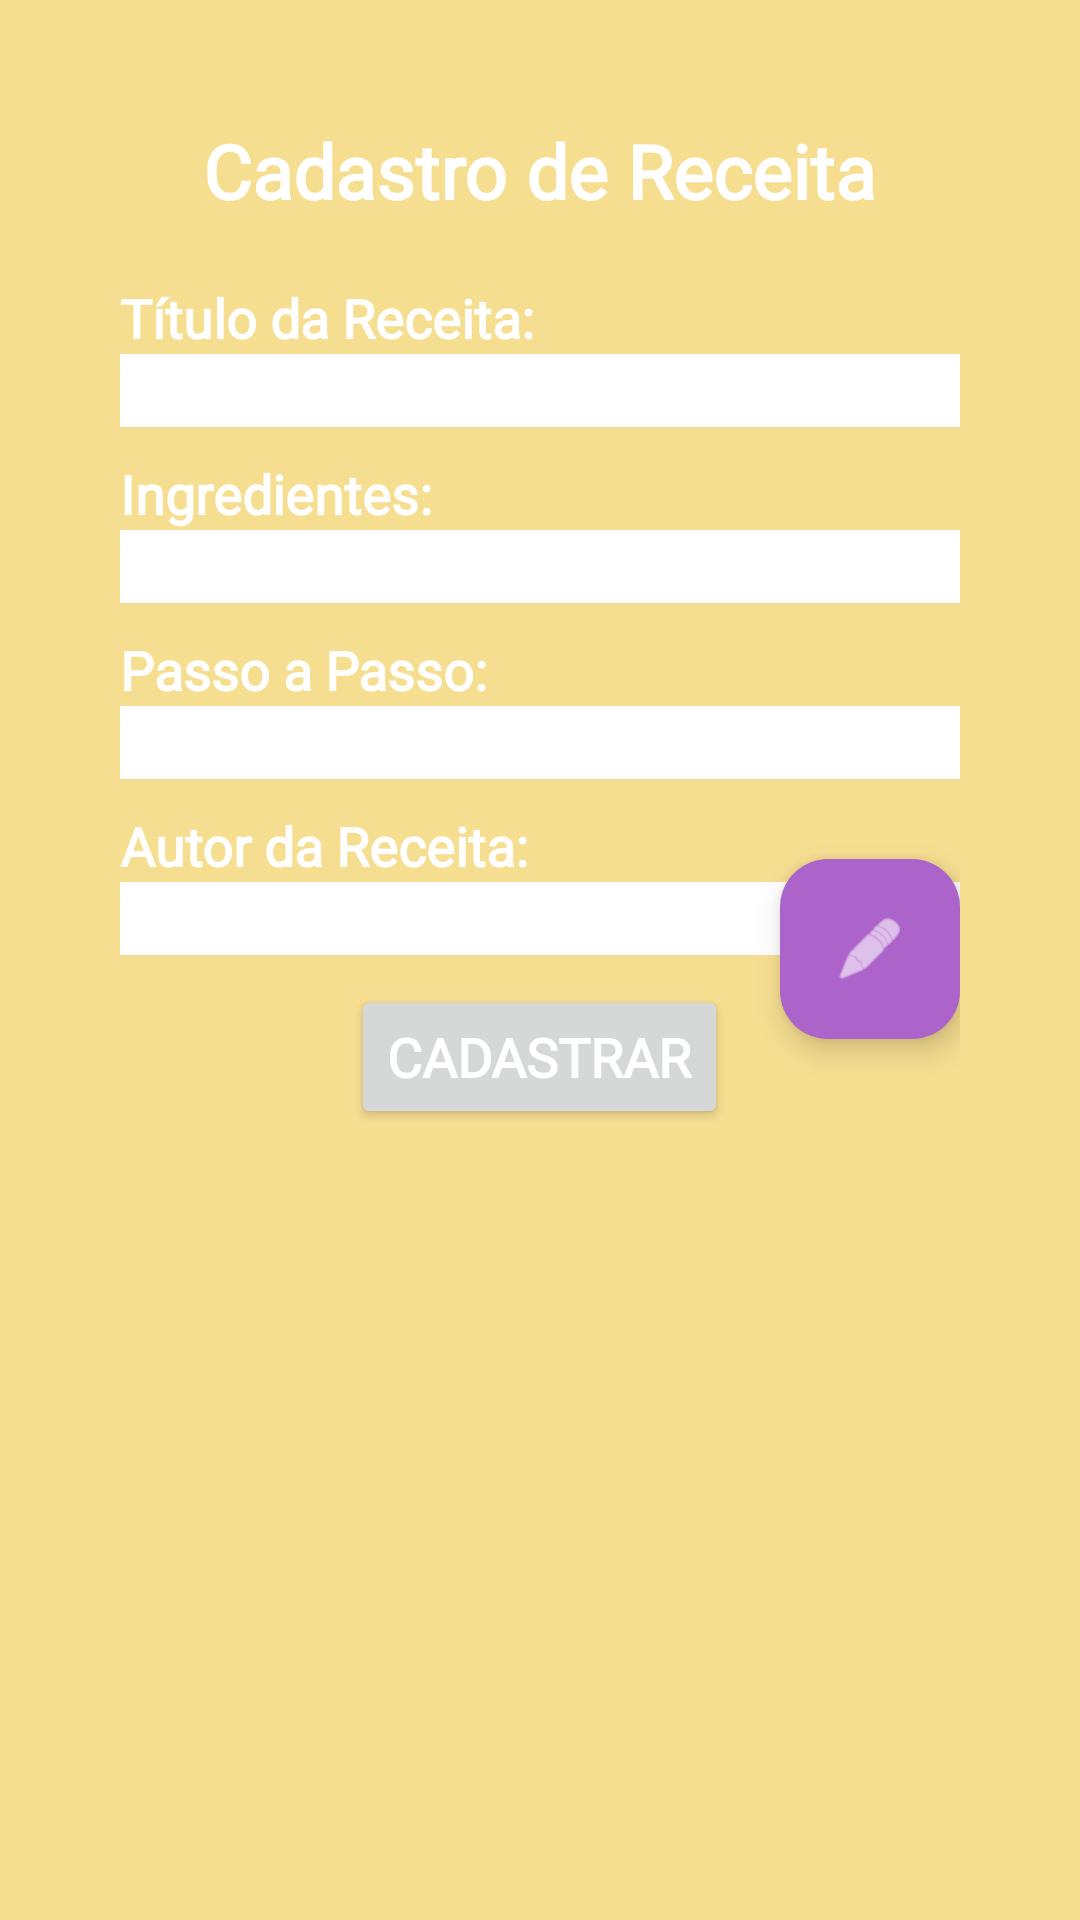

Where to tap for icons on this 1080w x 1920h app screen, as (x,y):
edit: (870,949)
